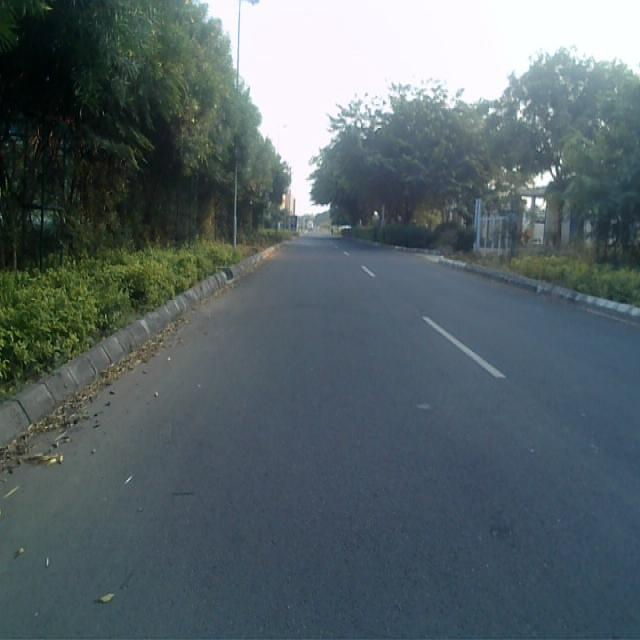lane: (0, 238, 640, 640)
